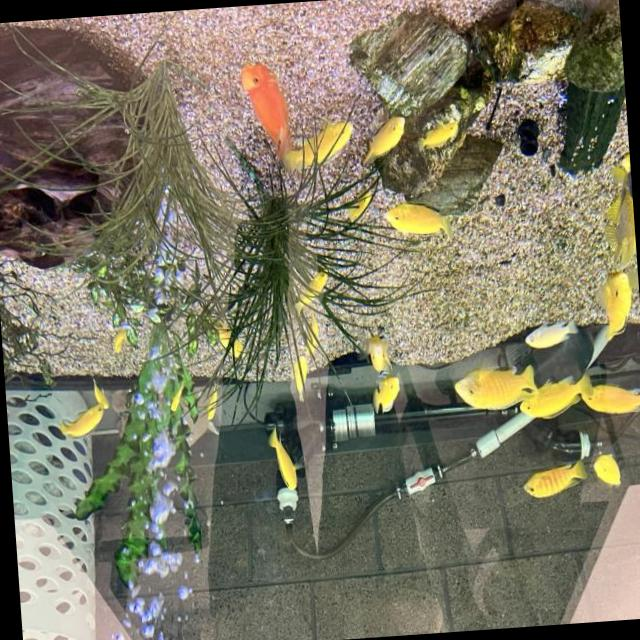YellowCichlid: (459, 360, 524, 423), (253, 422, 309, 492), (386, 192, 451, 250), (387, 197, 459, 244), (580, 272, 640, 326), (589, 188, 636, 256), (352, 105, 406, 163), (514, 462, 584, 503), (531, 373, 583, 420), (587, 377, 640, 421), (304, 118, 351, 166), (588, 445, 628, 500), (212, 320, 252, 370), (412, 113, 464, 151), (55, 406, 107, 441), (366, 380, 406, 422), (288, 274, 334, 308), (357, 334, 396, 374), (343, 178, 371, 226), (196, 376, 222, 426), (285, 356, 314, 397), (84, 374, 114, 411), (296, 320, 328, 353), (164, 378, 187, 418), (107, 320, 128, 360)
